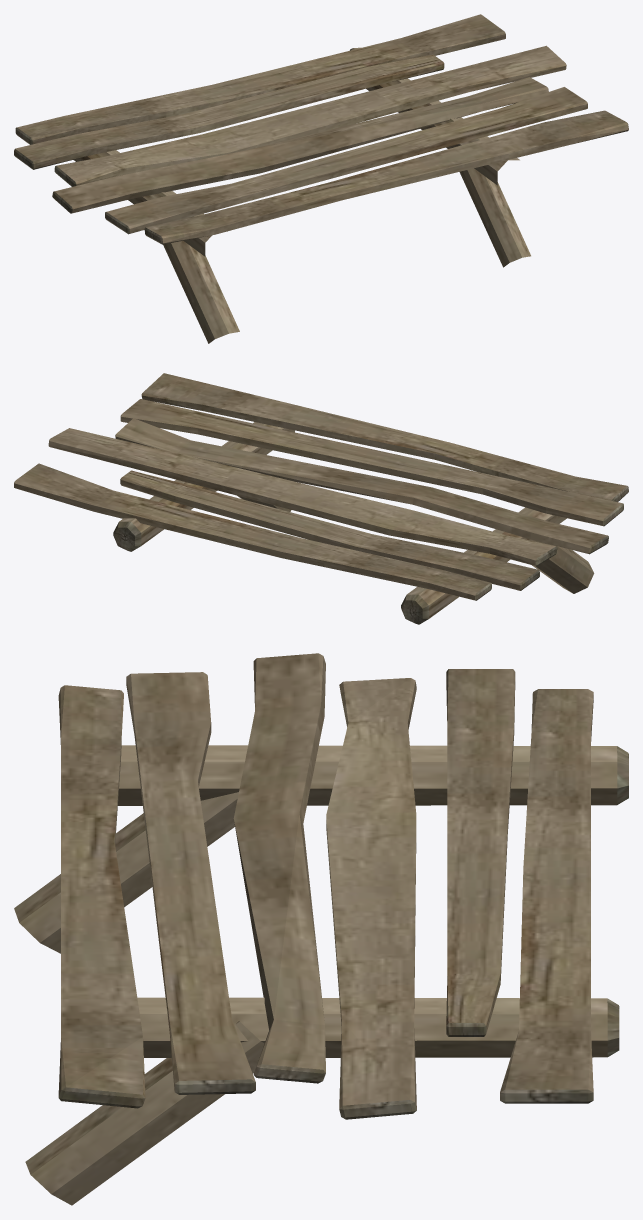
File: TW2_5_WALL_01_05-transformed.glb
3 views of the same model, one above another, from view 1: azimuth 30°, elevation 25°; view 2: azimuth 150°, elevation 25°; view 3: azimuth 270°, elevation 25° (orthographic). The views are drawn at different scales.
Visible parts, largest first — view 1: default; view 2: default; view 3: default.
Part boxes in pixels (left/top/right/bottom): default: left=14, top=14, right=628, bottom=343; default: left=14, top=373, right=628, bottom=624; default: left=14, top=653, right=628, bottom=1205.
Bounding box in the file's own units: 4.58 × 1.04 × 2.65.
Materials: 1 (1 with a texture image).
